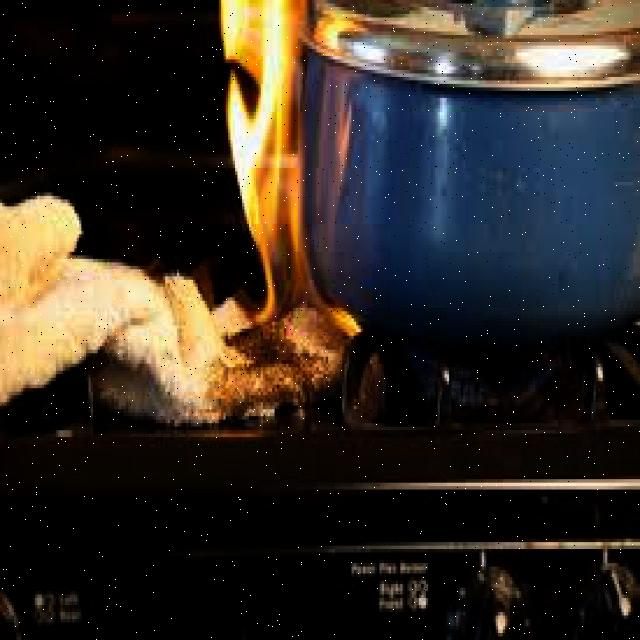fire: (222, 7, 336, 341)
